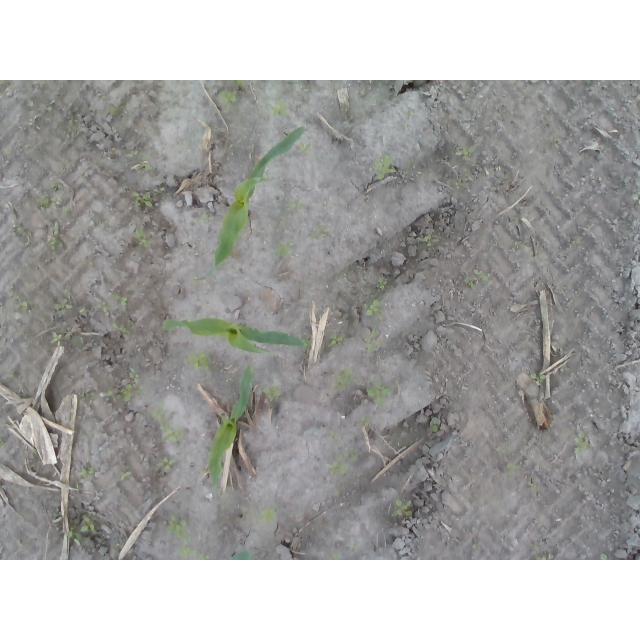Maize: (196, 128, 305, 283), (208, 365, 255, 496), (162, 316, 309, 356), (229, 552, 251, 561)
Weeds: (147, 400, 185, 444), (67, 512, 97, 545), (118, 367, 144, 402), (327, 448, 359, 476), (166, 511, 193, 542), (215, 81, 245, 108), (367, 383, 393, 409), (373, 152, 396, 181), (127, 149, 154, 172), (128, 225, 154, 248), (128, 191, 160, 209), (48, 221, 64, 255), (391, 497, 413, 520), (184, 350, 209, 370), (574, 432, 594, 457), (503, 463, 530, 481), (463, 271, 490, 289), (362, 295, 383, 318), (178, 544, 208, 560), (309, 223, 334, 242), (272, 239, 297, 257), (533, 541, 555, 560), (37, 194, 64, 209), (113, 320, 136, 337), (271, 99, 290, 119), (257, 506, 278, 524), (336, 367, 352, 390), (156, 455, 176, 473), (262, 384, 282, 402), (16, 294, 33, 314), (341, 96, 354, 121), (48, 329, 64, 348), (78, 464, 96, 480), (286, 198, 305, 211), (547, 134, 562, 150), (530, 371, 546, 386), (80, 390, 99, 402), (367, 337, 382, 352), (352, 415, 368, 429), (112, 291, 128, 305), (54, 302, 72, 314), (298, 143, 314, 156), (328, 334, 344, 347), (416, 234, 432, 247), (200, 209, 213, 224), (68, 115, 81, 129), (461, 145, 475, 158), (494, 445, 512, 455), (79, 304, 94, 316), (17, 225, 32, 237), (97, 302, 112, 314), (47, 183, 65, 193), (431, 416, 441, 433), (512, 240, 529, 250), (375, 278, 388, 291), (326, 550, 342, 560), (110, 103, 121, 117), (572, 237, 585, 248), (328, 431, 341, 441), (455, 178, 465, 190), (0, 434, 8, 449), (121, 471, 132, 481), (7, 371, 17, 381), (351, 544, 362, 553), (63, 207, 72, 217), (599, 552, 610, 560), (107, 387, 114, 399), (72, 482, 81, 491), (51, 510, 61, 518), (250, 80, 258, 86)
